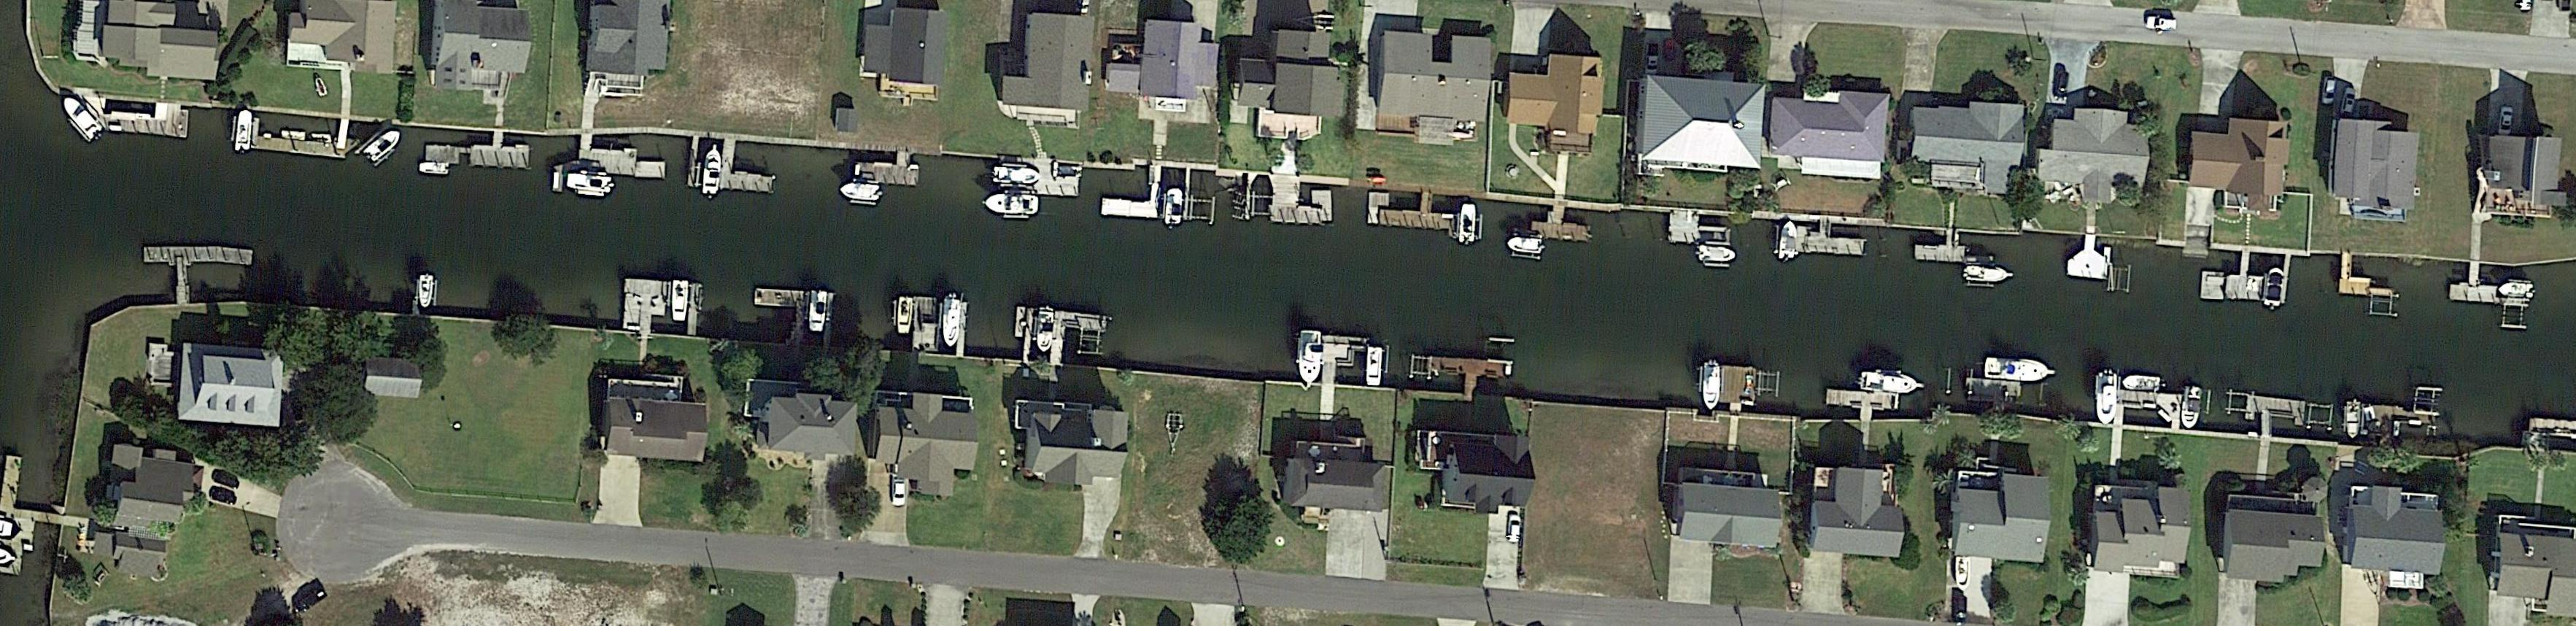harbor: (549, 118, 672, 202), (250, 117, 363, 161), (2201, 248, 2293, 302), (77, 95, 191, 138), (1265, 176, 1336, 228), (1380, 191, 1460, 232), (1050, 311, 1109, 366), (754, 288, 810, 347), (718, 138, 777, 194), (2359, 404, 2433, 449), (997, 159, 1083, 197), (1101, 168, 1161, 219), (424, 141, 531, 169), (619, 278, 672, 334), (2242, 396, 2307, 439), (2113, 391, 2183, 429), (1531, 204, 1595, 245), (143, 243, 255, 266), (2339, 255, 2397, 299), (1319, 335, 1368, 386), (2448, 260, 2502, 302), (1825, 388, 1899, 419), (1963, 378, 2022, 416), (1796, 225, 1865, 256), (2065, 237, 2109, 281), (1718, 366, 1758, 416), (1428, 357, 1506, 380), (908, 296, 940, 352), (1914, 230, 1968, 261), (856, 163, 920, 187), (411, 274, 440, 315), (687, 284, 703, 335), (1022, 309, 1037, 361), (956, 302, 969, 357), (823, 294, 835, 348)
ship: (59, 92, 103, 140), (1985, 357, 2055, 386), (1858, 368, 1925, 398), (361, 123, 404, 164), (1298, 327, 1324, 384), (1963, 261, 2014, 288), (984, 192, 1042, 215), (2178, 384, 2205, 434), (701, 143, 723, 196), (2096, 371, 2116, 427), (807, 288, 830, 334), (565, 174, 614, 196), (2262, 266, 2285, 311), (992, 164, 1040, 186), (941, 296, 961, 347), (1702, 361, 1722, 411), (235, 108, 255, 156), (840, 181, 884, 200), (1459, 202, 1479, 246), (669, 281, 688, 322), (1037, 311, 1055, 355), (1365, 345, 1383, 389), (1779, 219, 1797, 263), (2121, 373, 2160, 393), (1505, 235, 1544, 255), (1163, 189, 1183, 227), (2344, 401, 2362, 440), (2497, 281, 2532, 301), (1699, 245, 1735, 263), (1955, 557, 1973, 591), (899, 296, 915, 334), (417, 276, 434, 309), (419, 159, 450, 176), (281, 128, 307, 143), (312, 76, 330, 97), (310, 131, 332, 146)
